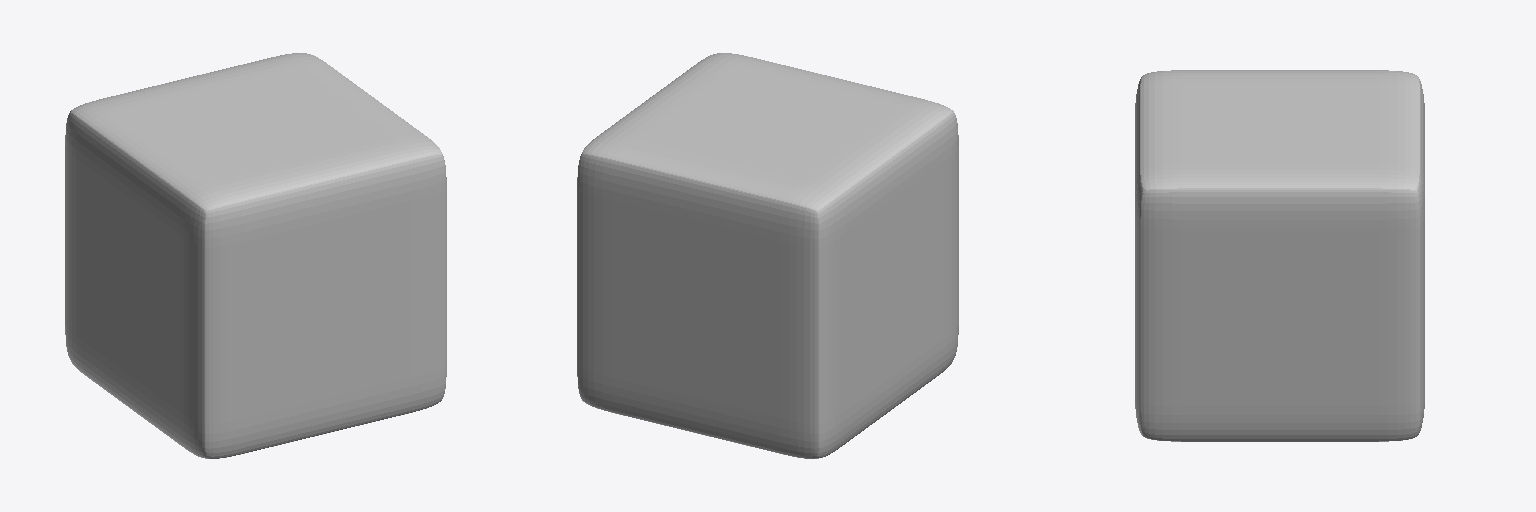
The model's file is bonus_score.obj.
3 views of the same model, side by side, from view 1: azimuth 30°, elevation 25°; view 2: azimuth 150°, elevation 25°; view 3: azimuth 270°, elevation 25° (orthographic).
Parts seen in each view (by area): view 1: Cube_Cube.001; view 2: Cube_Cube.001; view 3: Cube_Cube.001.
Part boxes in pixels (x1,y1,x2,y2): Cube_Cube.001: (65, 53, 446, 458); Cube_Cube.001: (577, 53, 958, 458); Cube_Cube.001: (1135, 70, 1424, 441).
Size of the model in its own units: 0.7921 by 0.7921 by 0.7921.